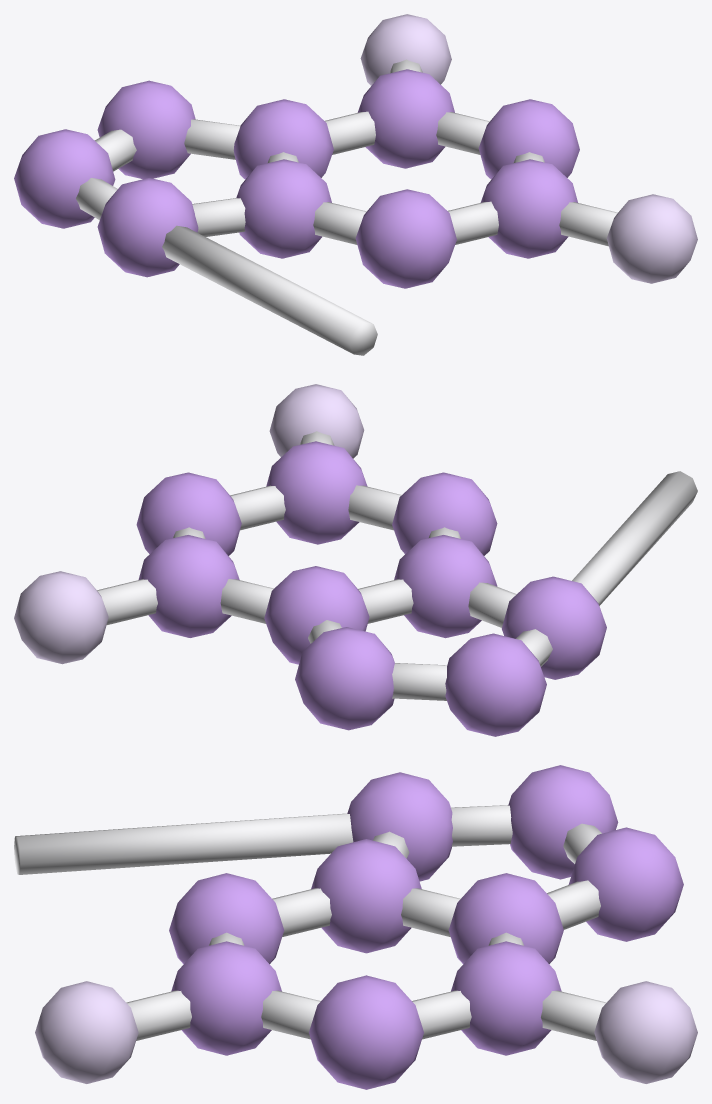
File: Guanine_G.glb
The picture shows the model from 3 angles, top to bottom: view 1: azimuth 30°, elevation 25°; view 2: azimuth 150°, elevation 25°; view 3: azimuth 270°, elevation 25°; orthographic projection. The views are drawn at different scales.
Parts seen in each view (by area): view 1: Guanine_G_Ring, Guanine_G_Bonds, Guanine_G_Edge; view 2: Guanine_G_Ring, Guanine_G_Bonds, Guanine_G_Edge; view 3: Guanine_G_Ring, Guanine_G_Bonds, Guanine_G_Edge.
Boxes of the visible parts, <box> form: Guanine_G_Ring: <box>14,69,579,288</box>; Guanine_G_Bonds: <box>76,59,617,355</box>; Guanine_G_Edge: <box>360,14,697,283</box>; Guanine_G_Ring: <box>136,441,606,736</box>; Guanine_G_Bonds: <box>97,431,697,700</box>; Guanine_G_Edge: <box>14,384,364,664</box>; Guanine_G_Ring: <box>169,765,683,1089</box>; Guanine_G_Bonds: <box>14,805,606,1040</box>; Guanine_G_Edge: <box>35,981,697,1083</box>.
Size of the model in its own units: 0.0532 by 0.01 by 0.0593.
